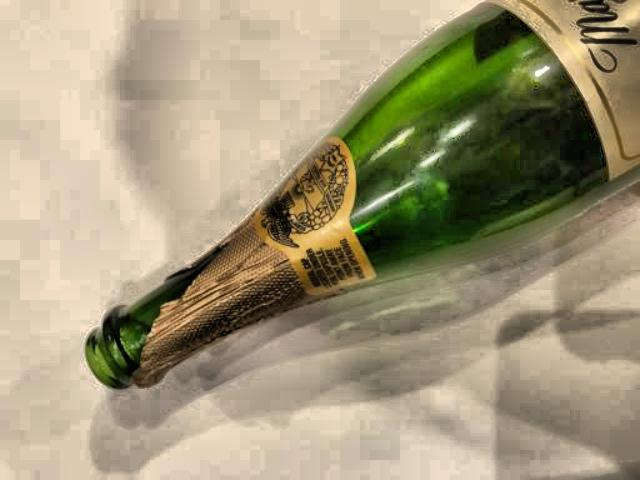Bottles: (65, 0, 640, 400)
